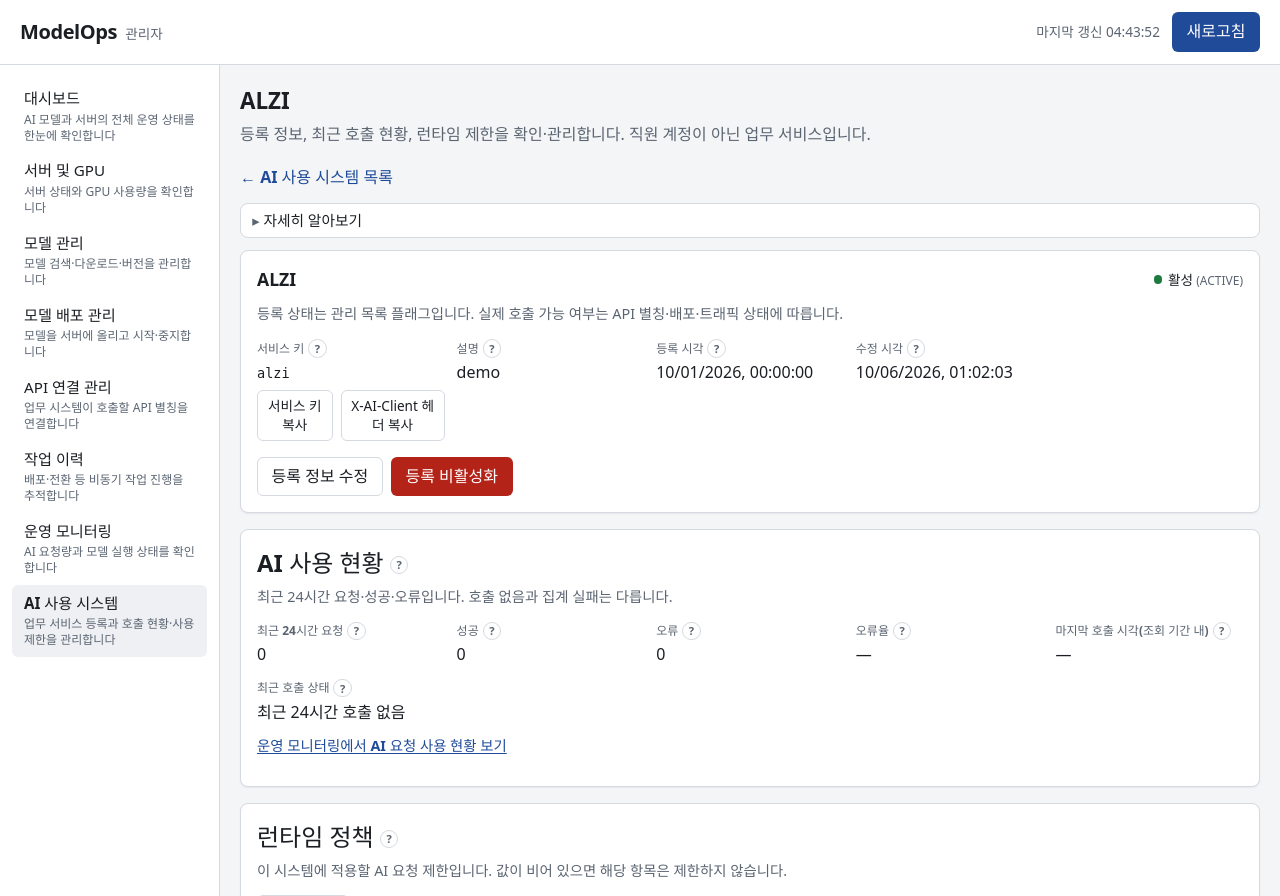
Test: ClientDetailPage › edits display_name/description with preflight GET and null description
Click the button "등록 정보 수정" at [320, 477], box [257,457,383,496]
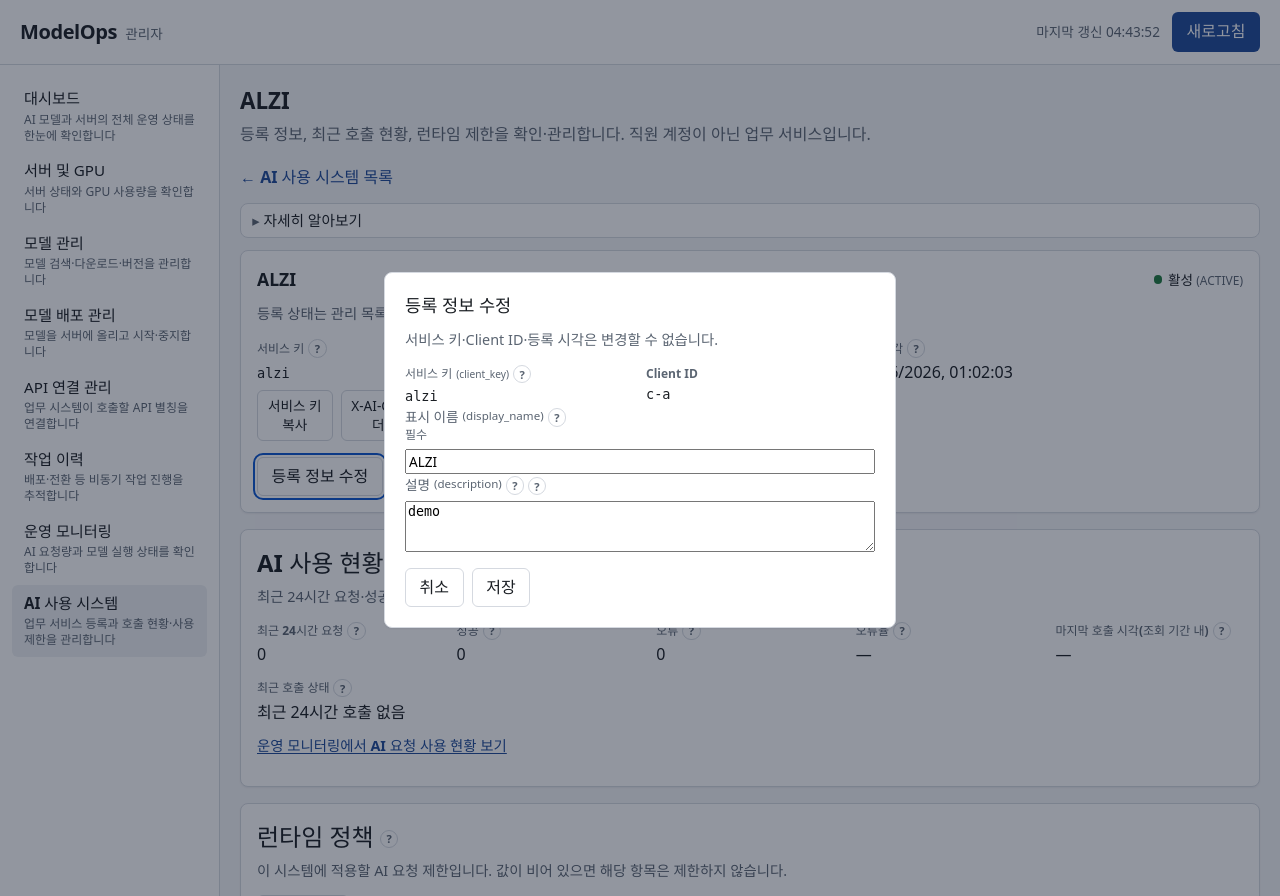
Replace the text in the field labelled "표시 이름 (display_name) ? 필수" with "Renamed" at [640, 461], box [405,449,875,474]
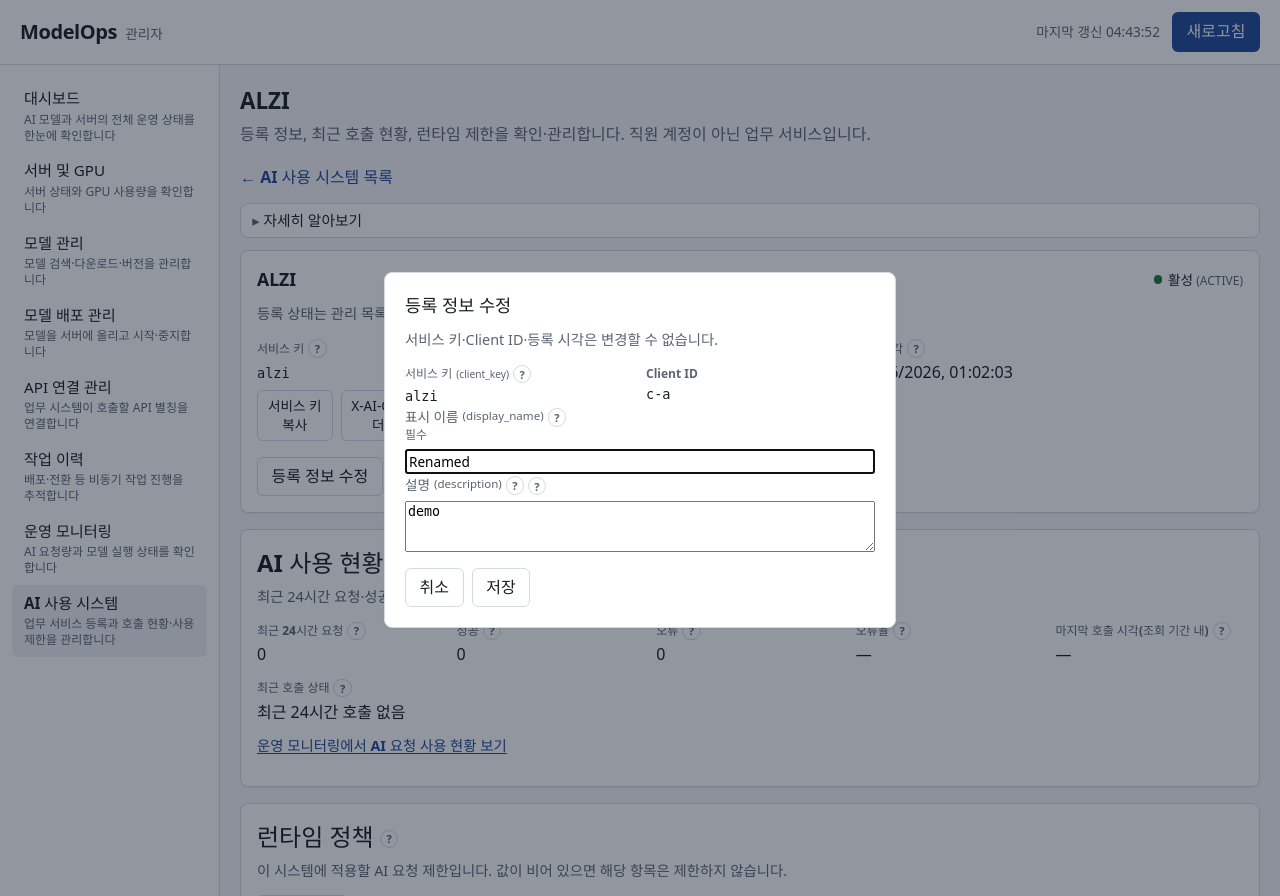
Clear the text box labelled "설명 (description) ? ?" at [640, 526], box [405,501,875,552]
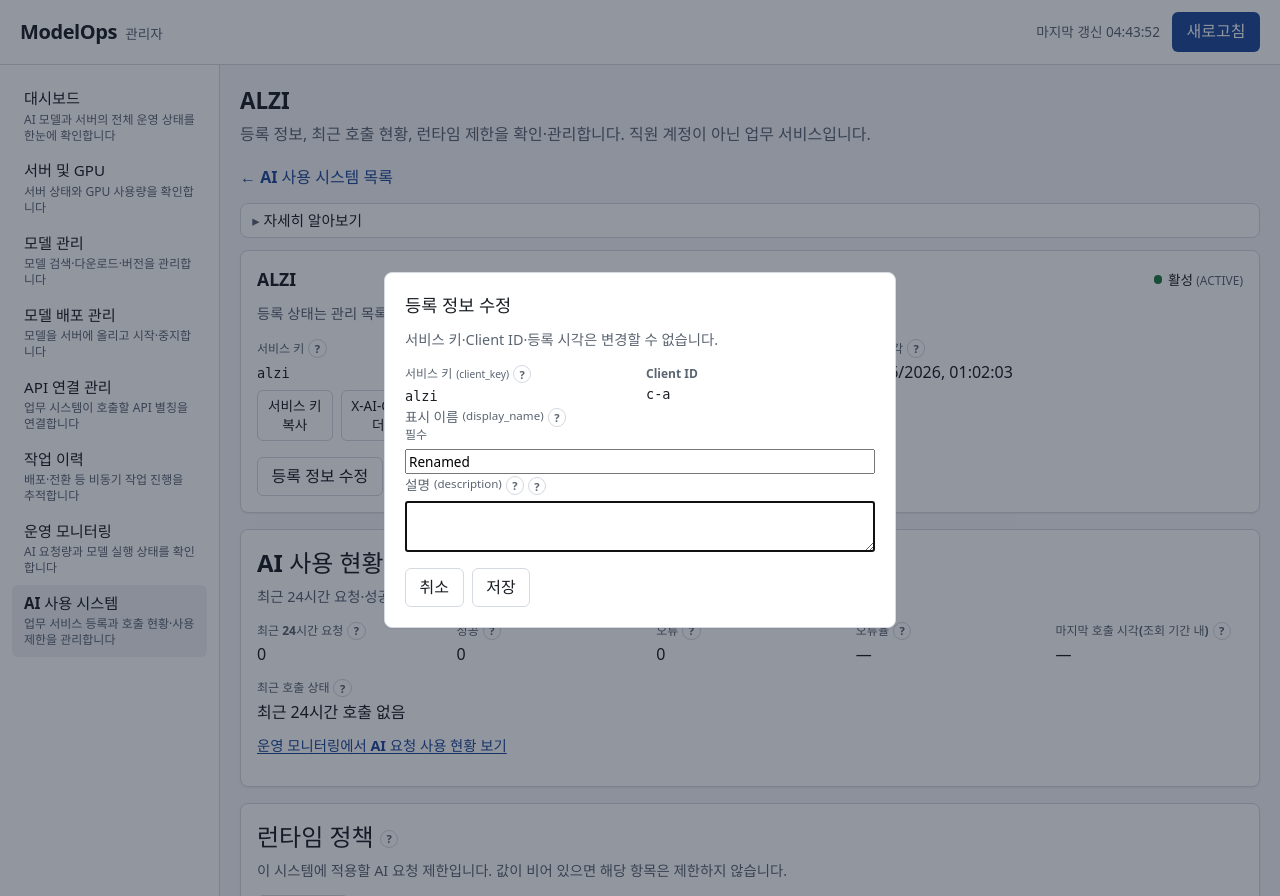
Click the button "저장" at [501, 588], box [472,568,530,608]
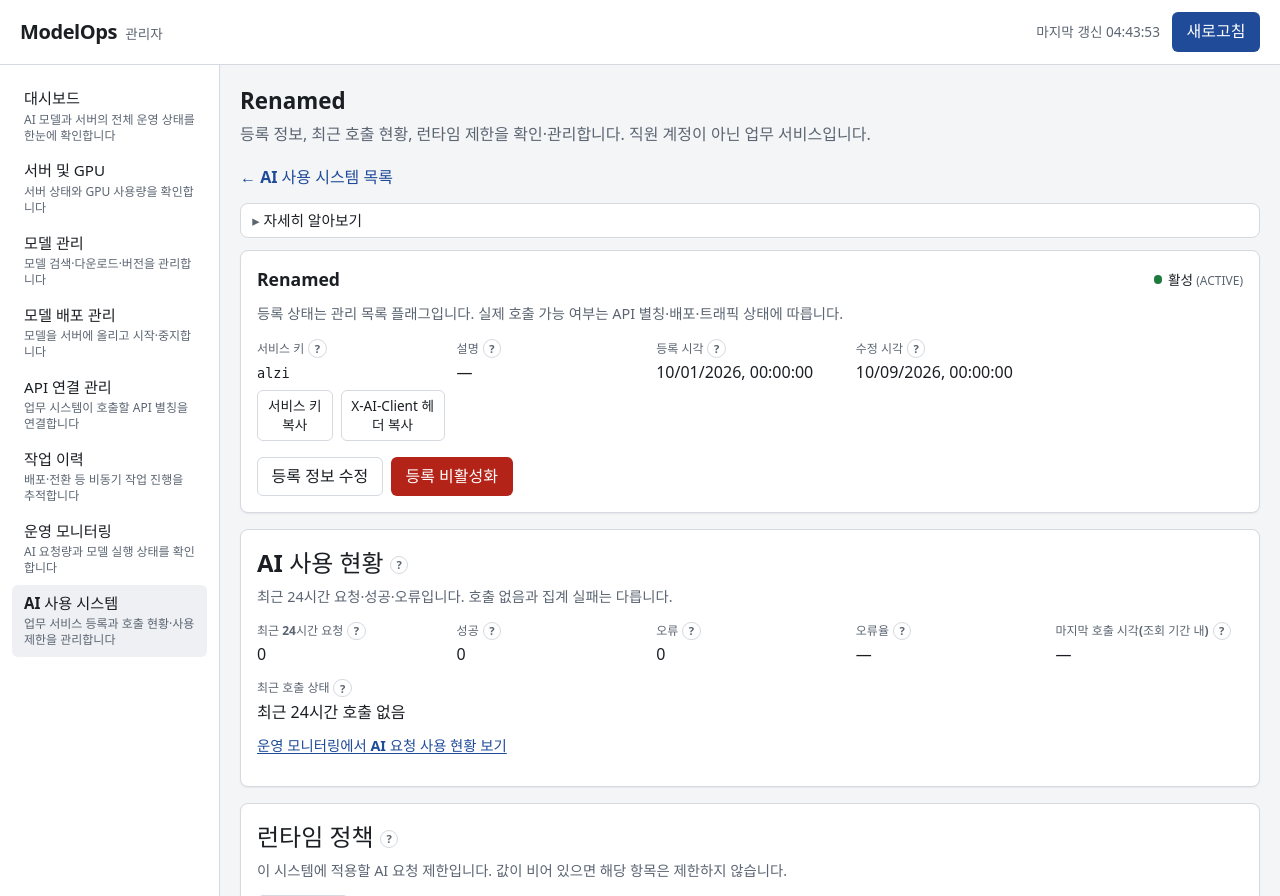
Expected: the 2nd heading "Renamed" is shown, [257,267,340,292]
